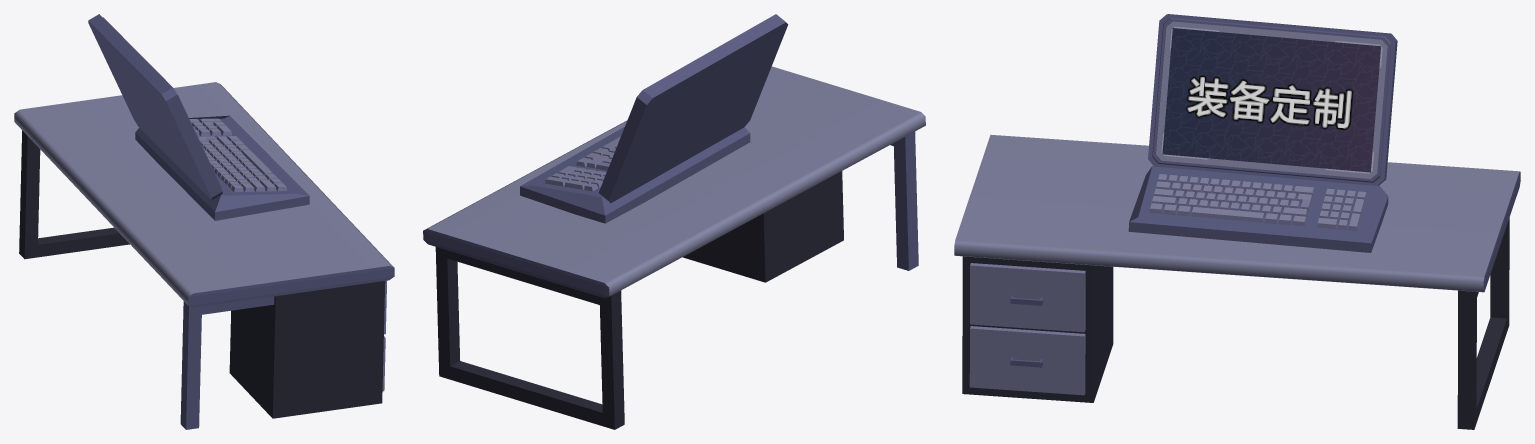
The model's file is ConfigureEquipmentCabinet.fbx.
The picture shows the model from 3 angles, left to right: view 1: azimuth 30°, elevation 25°; view 2: azimuth 150°, elevation 25°; view 3: azimuth 270°, elevation 25°; orthographic projection. The views are drawn at different scales.
Visible parts, largest first — view 1: base2; view 2: base2; view 3: base2.
Boxes of the visible parts, box(x1,y1,x2,y2) form: base2: box(14, 14, 394, 429); base2: box(423, 14, 925, 429); base2: box(954, 14, 1520, 429).
Size of the model in its own units: 1.18 by 1.27 by 2.05.
